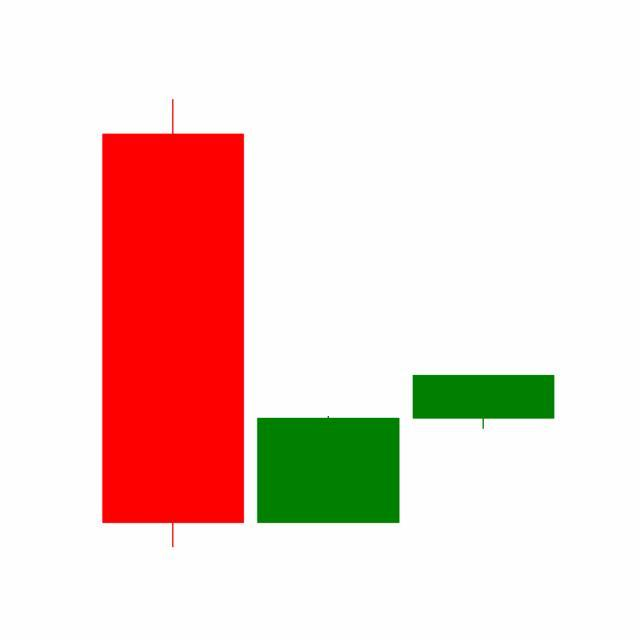Marubozu: (250, 416, 407, 525)
